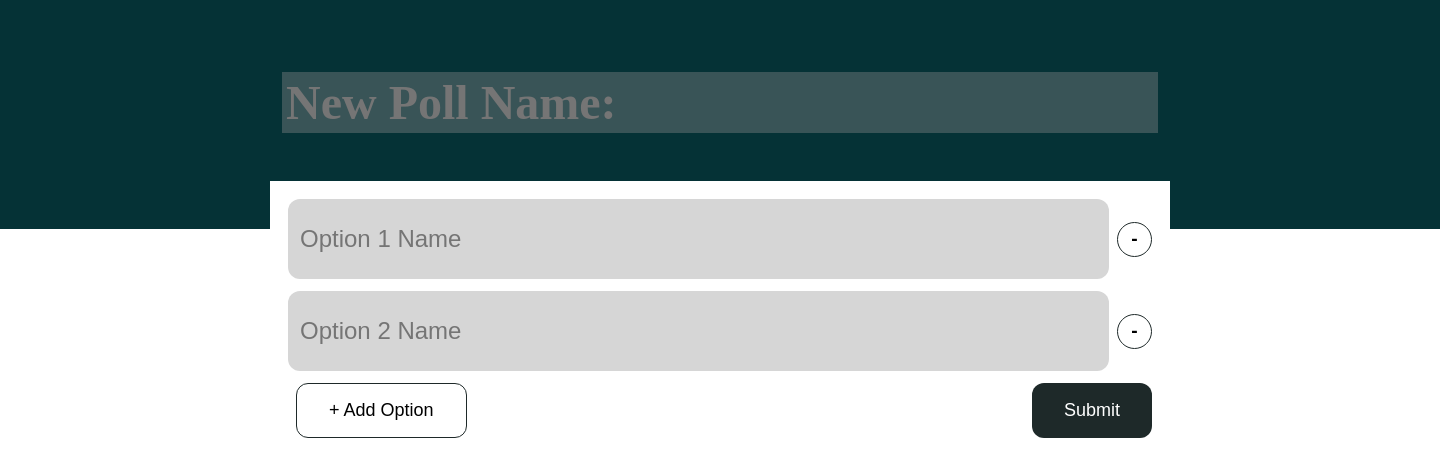
Test: Shows poll name validation errors
Check: the button "+ Add Option" is shown, box [296,383,467,438]
Type "TestOption 1" into the field with placeholder "Option 1 Name". click: coordinates (698, 239)
box: [288,199,1109,279]
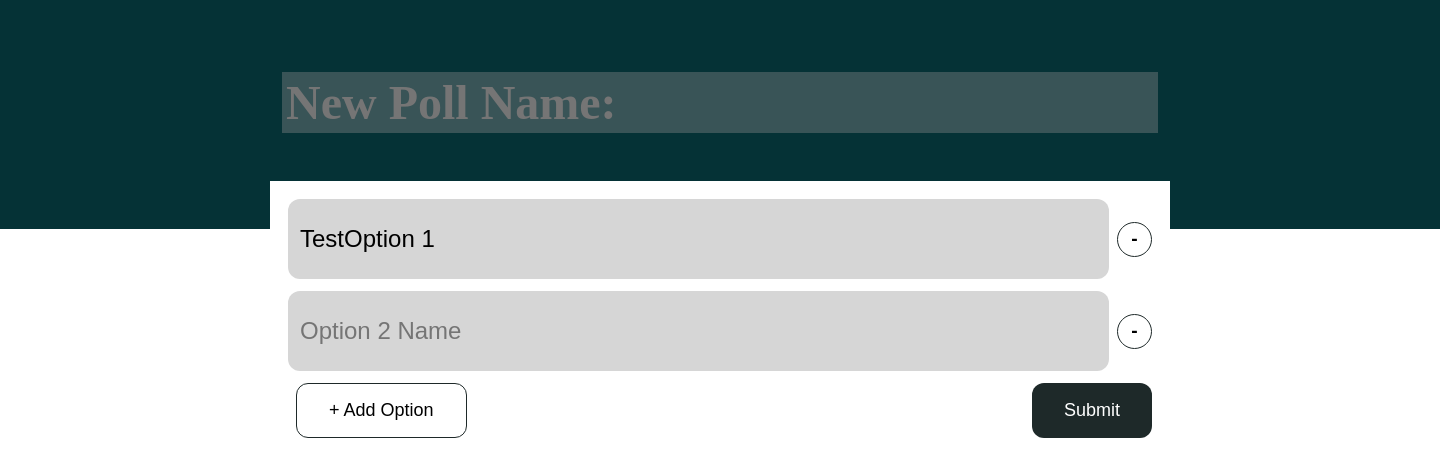
Type "TestOption 2" into the field with placeholder "Option 2 Name". click: coordinates (698, 331)
box: [288,291,1109,371]
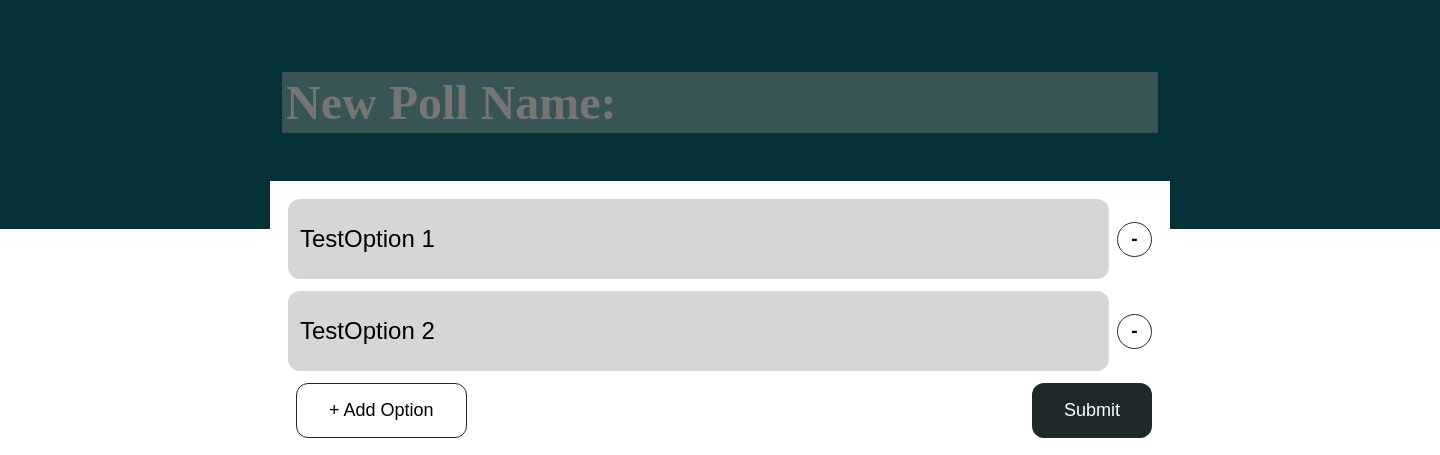
Click the button "Submit". click: coordinates (1092, 410)
box: [1032,383,1152,438]
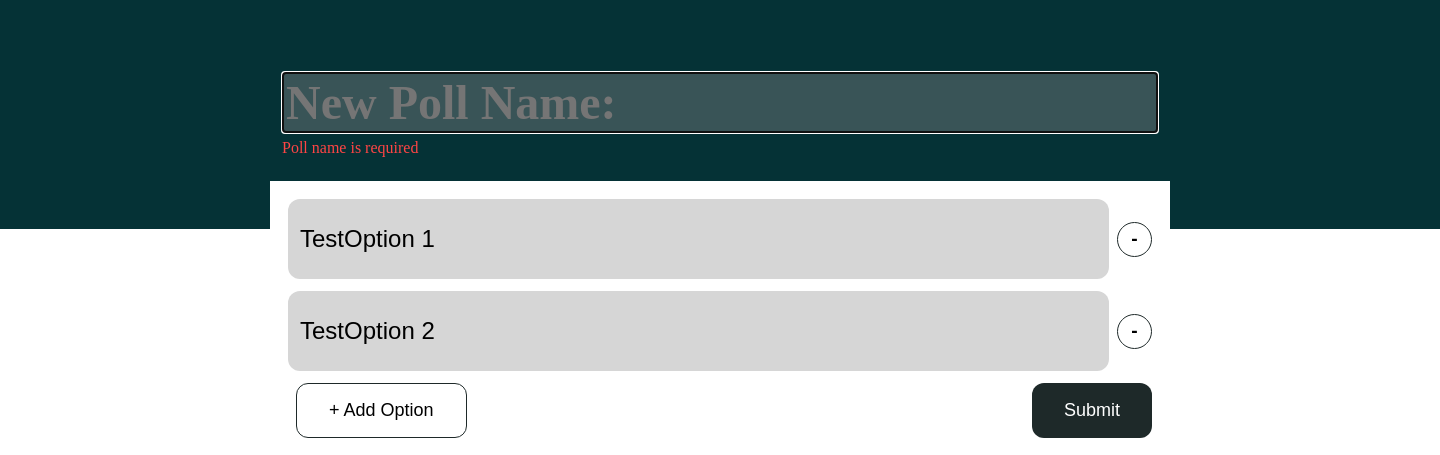
Check: the text "Poll name is required" is shown, box [282,139,418,156]
# Test if long poll name returns proper message
Type "This is a poll name over 60 characters long to test validation." into the field with placeholder "New Poll Name:". click: coordinates (720, 102)
box: [282,72,1158,133]
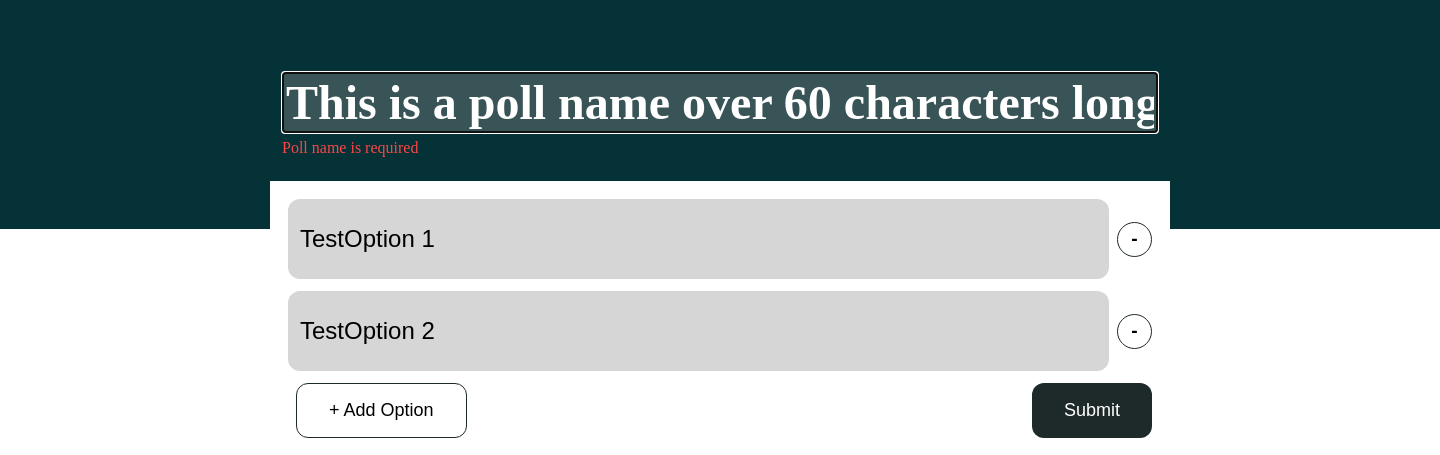
Click the button "Submit". click: coordinates (1092, 410)
box: [1032,383,1152,438]
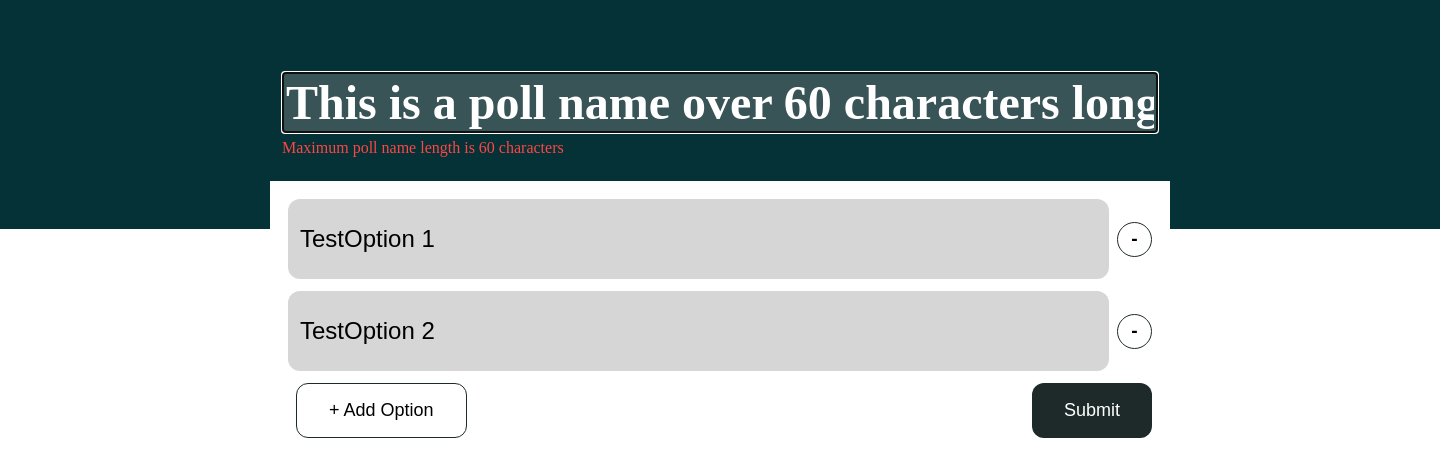
Check: the text "Maximum poll name length is 60 characters" is shown, box [282,139,564,156]
